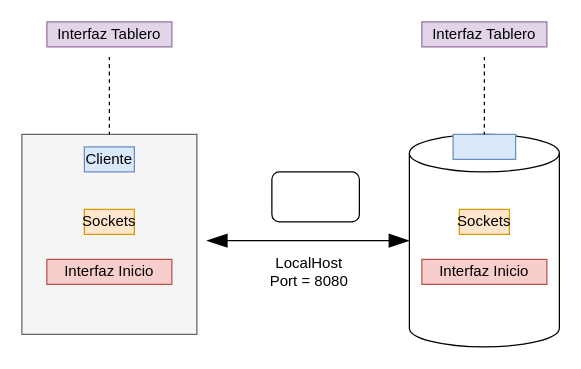
Image size: 581x369. Some labels were removed from this diagram. Each missing label, with the centre of its shape:
"Respuesta Reto" belongs at point (315, 196).
"Servidor" belongs at point (484, 146).
